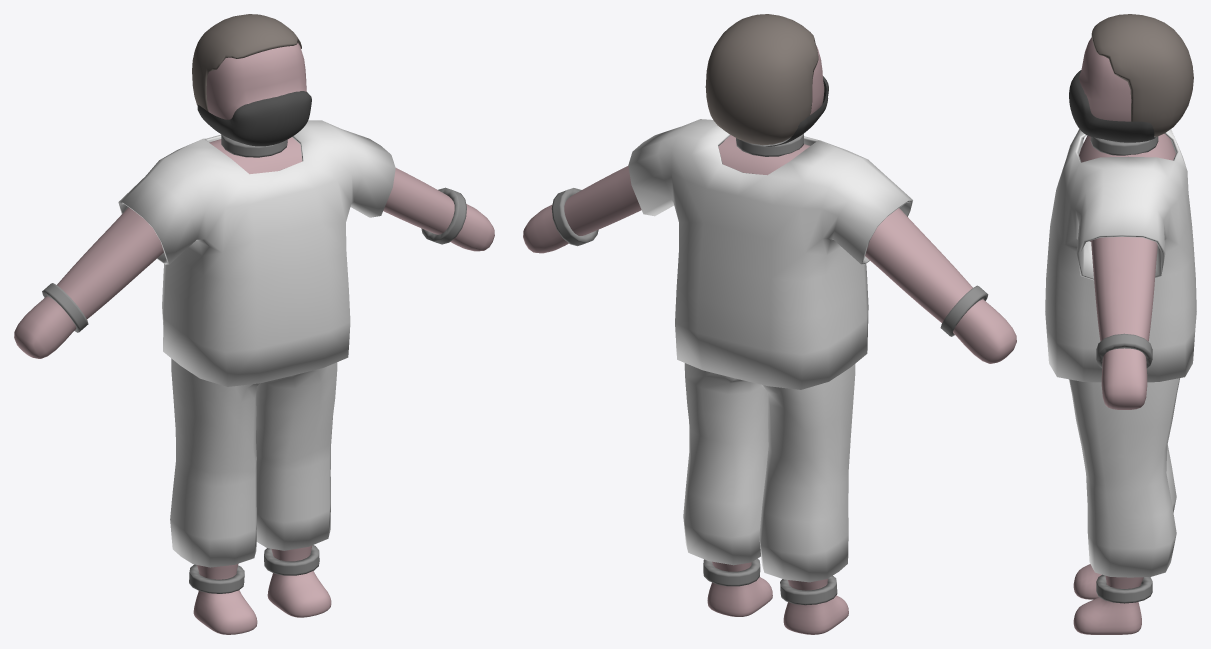
The model's file is PrisonerNPC_1.fbx.
3 renders of one model, left to right at view 1: azimuth 30°, elevation 25°; view 2: azimuth 150°, elevation 25°; view 3: azimuth 270°, elevation 25°, orthographic. The views are drawn at different scales.
Parts seen in each view (by area): view 1: Shirt, Pants, Body, Hair, Mask, Foot Cuff_L, Foot Cuff_R, Hand Cuff_L, Foot Cuff_L.001, Hand Cuff_R; view 2: Shirt, Pants, Body, Hair, Foot Cuff_R, Foot Cuff_L, Hand Cuff_L, Hand Cuff_R, Foot Cuff_L.001; view 3: Shirt, Pants, Body, Hair, Mask, Foot Cuff_L, Hand Cuff_L, Foot Cuff_L.001.
Part boxes in pixels (x1=…): Shirt: x1=118, y1=120, x2=395, y2=386; Pants: x1=170, y1=358, x2=337, y2=567; Body: x1=14, y1=43, x2=494, y2=634; Hair: x1=192, y1=14, x2=301, y2=111; Mask: x1=197, y1=91, x2=311, y2=146; Foot Cuff_L: x1=264, y1=545, x2=319, y2=575; Foot Cuff_R: x1=189, y1=564, x2=244, y2=593; Hand Cuff_L: x1=421, y1=187, x2=466, y2=244; Foot Cuff_L.001: x1=221, y1=134, x2=287, y2=157; Hand Cuff_R: x1=42, y1=283, x2=88, y2=332; Shirt: x1=628, y1=119, x2=912, y2=389; Pants: x1=683, y1=363, x2=855, y2=582; Body: x1=523, y1=45, x2=1016, y2=634; Hair: x1=705, y1=14, x2=818, y2=145; Foot Cuff_R: x1=780, y1=575, x2=837, y2=605; Foot Cuff_L: x1=703, y1=558, x2=760, y2=586; Hand Cuff_L: x1=551, y1=188, x2=598, y2=246; Hand Cuff_R: x1=940, y1=285, x2=988, y2=336; Foot Cuff_L.001: x1=736, y1=133, x2=803, y2=156; Shirt: x1=1045, y1=129, x2=1196, y2=382; Pants: x1=1069, y1=378, x2=1179, y2=577; Body: x1=1073, y1=37, x2=1175, y2=634; Hair: x1=1091, y1=14, x2=1193, y2=136; Mask: x1=1069, y1=70, x2=1155, y2=142; Foot Cuff_L: x1=1096, y1=574, x2=1152, y2=603; Hand Cuff_L: x1=1096, y1=333, x2=1152, y2=368; Foot Cuff_L.001: x1=1090, y1=136, x2=1158, y2=155.
Bounding box in the file's own units: 80.62 × 96 × 22.42.
